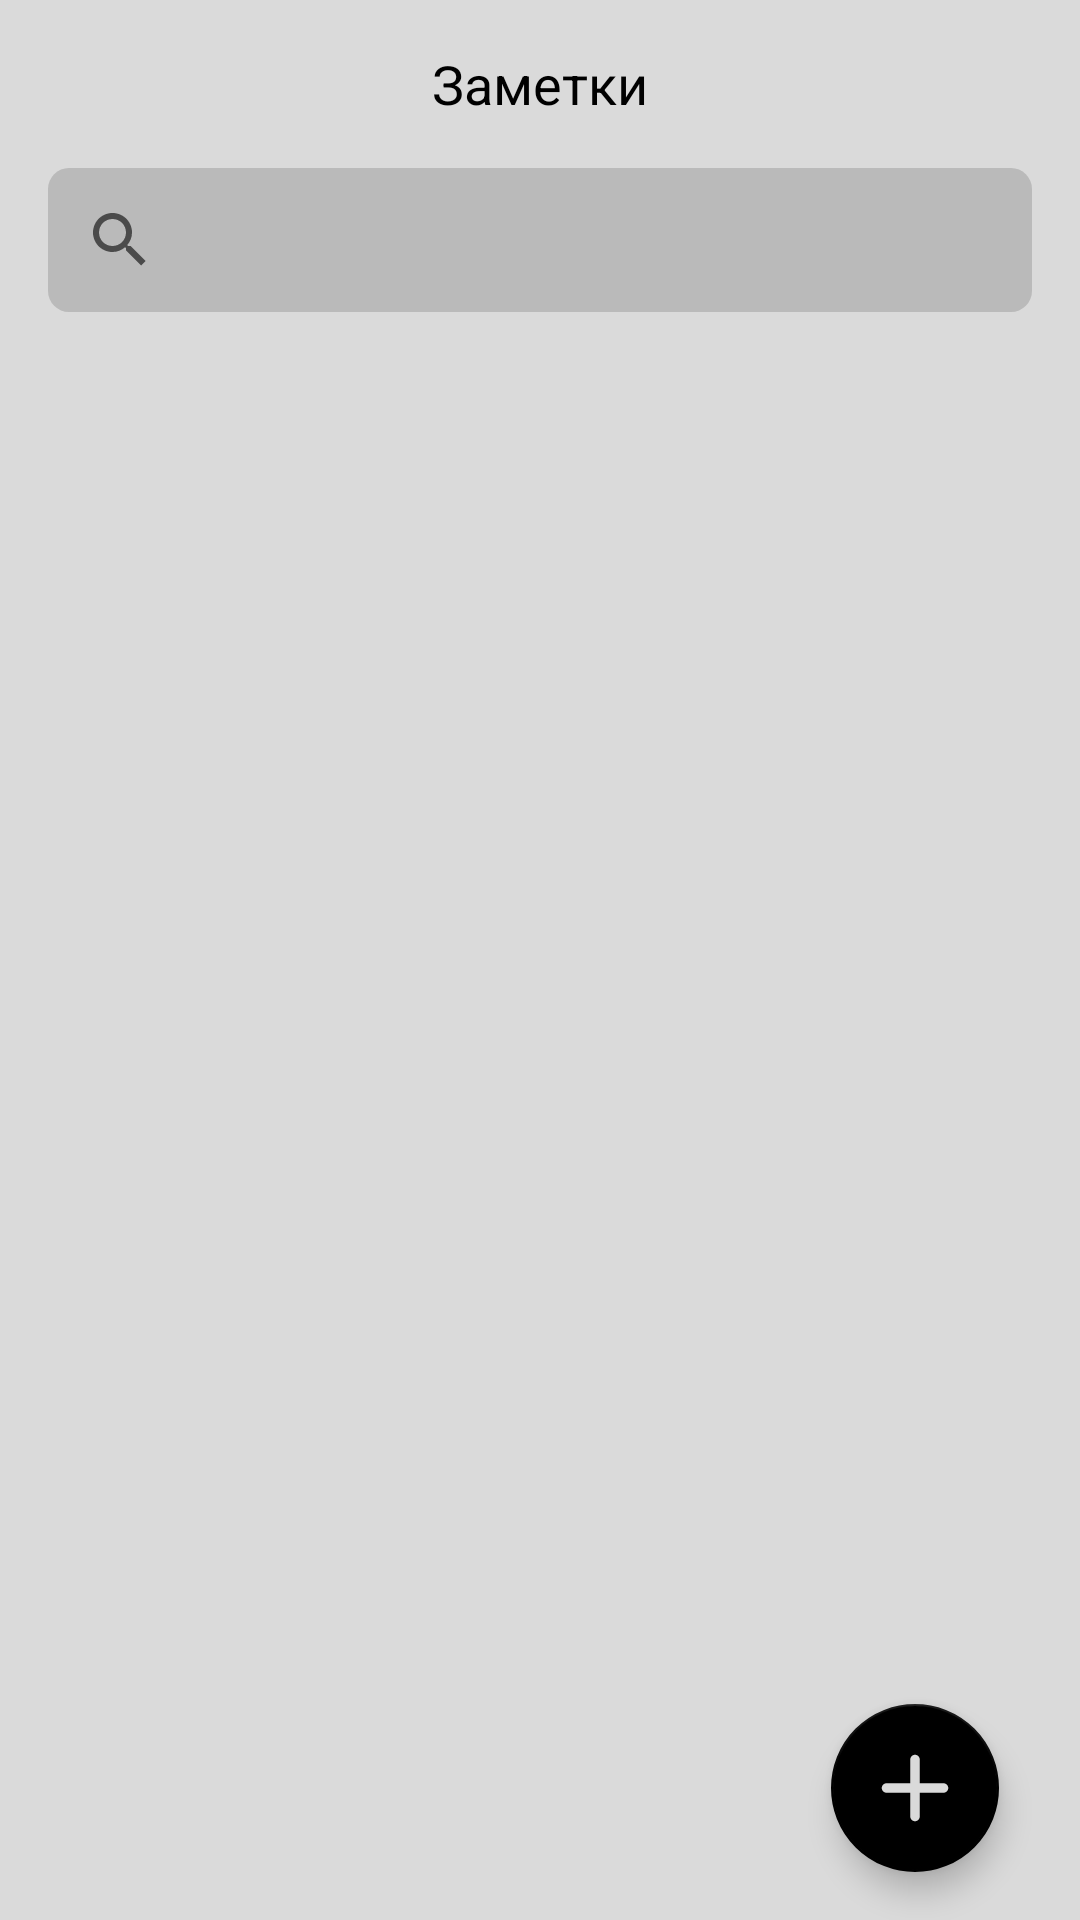

Screen size 1080px×1920px. Icon name, then its box in pixels as box(x1, y1, x2, y2):
add note: box(831, 1704, 999, 1872)
